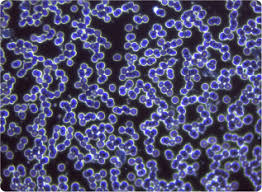Malaria: (201, 135, 237, 191), (166, 5, 222, 36), (222, 85, 254, 131), (163, 143, 200, 179), (76, 124, 108, 162), (106, 122, 138, 160), (6, 39, 40, 74), (148, 57, 179, 95), (1, 156, 34, 191), (79, 79, 114, 108), (45, 124, 74, 158), (238, 16, 262, 53), (57, 94, 79, 124), (179, 63, 201, 93), (117, 52, 140, 79), (82, 168, 107, 192), (218, 10, 237, 40), (141, 126, 160, 156), (182, 109, 201, 139), (29, 23, 54, 43), (124, 31, 149, 51), (80, 41, 105, 61), (90, 62, 115, 82), (1, 72, 16, 105), (114, 1, 139, 20), (91, 1, 111, 22), (78, 1, 93, 15), (112, 51, 121, 61), (68, 4, 77, 12)
